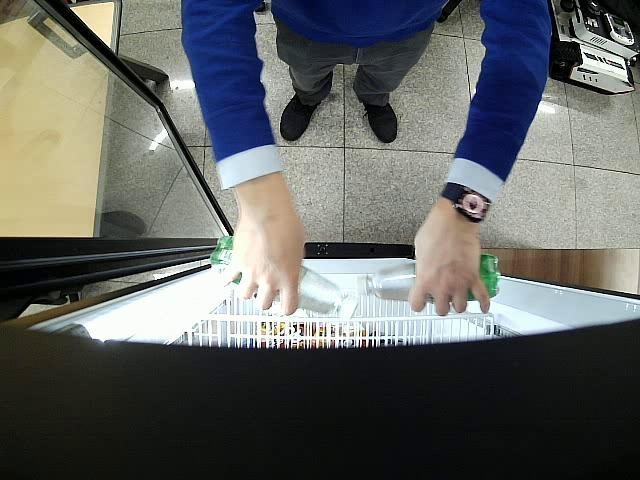18_trevi: (212, 236, 356, 318), (358, 253, 499, 301)
